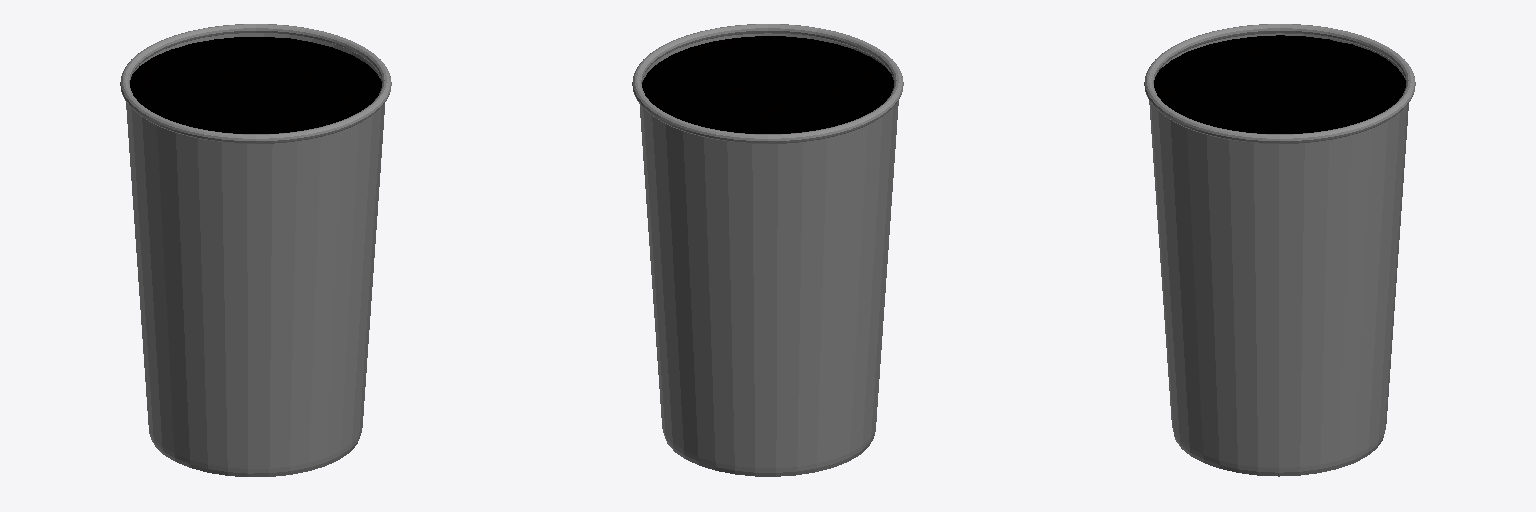
Rendered from AllModels.obj.
3 views of the same model, side by side, from view 1: azimuth 30°, elevation 25°; view 2: azimuth 150°, elevation 25°; view 3: azimuth 270°, elevation 25° (orthographic).
Visible parts, largest first — view 1: cup, cup_liquid; view 2: cup, cup_liquid; view 3: cup, cup_liquid.
Part boxes in pixels (bbox=[...]): cup: bbox=[120, 24, 391, 476]; cup_liquid: bbox=[130, 37, 381, 133]; cup: bbox=[632, 24, 903, 476]; cup_liquid: bbox=[642, 36, 893, 133]; cup: bbox=[1144, 24, 1415, 476]; cup_liquid: bbox=[1154, 35, 1405, 133].
Bounding box in the file's own units: 0.112 × 0.1605 × 0.112.